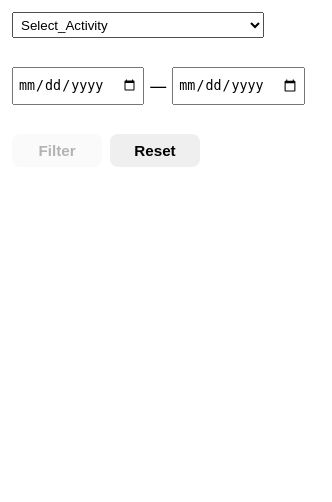
Test: FilterBar › when Activity is "One_Hand_Hold", time range is shown and reps range is hidden
Step 1. Select "One_Hand_Hold" in the dropdown named "Activity_Name" → (138, 25), box [12,12,264,38]
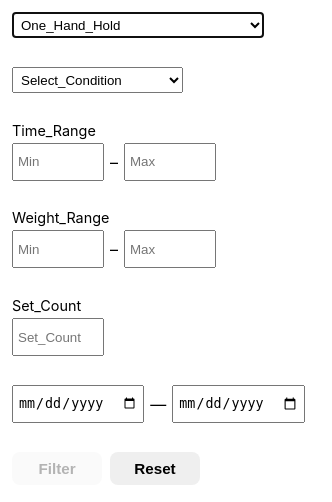
Expected: the text "Time_Range" is shown, [12,122,96,139]
